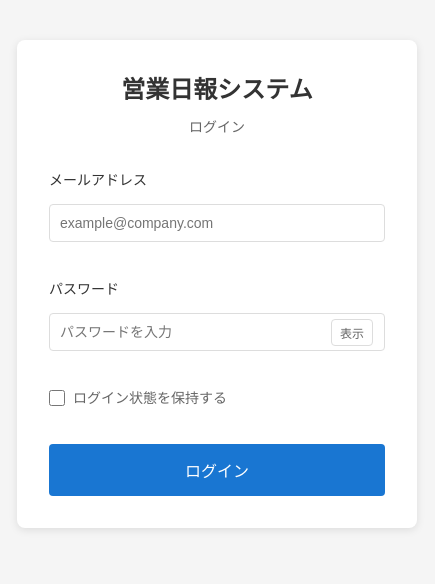
LoginPage › should show validation error for empty password
Step 1. Type "test@example.com" into the field labelled "メールアドレス" → (217, 223), box x1=49 y1=204 x2=385 y2=242
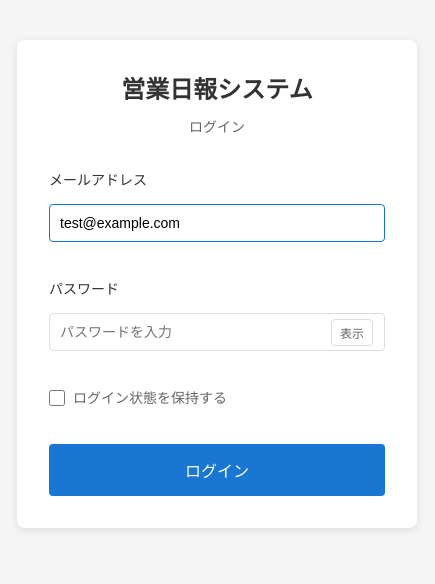
Step 2. Click the button "ログイン" → (217, 470), box x1=49 y1=444 x2=385 y2=496
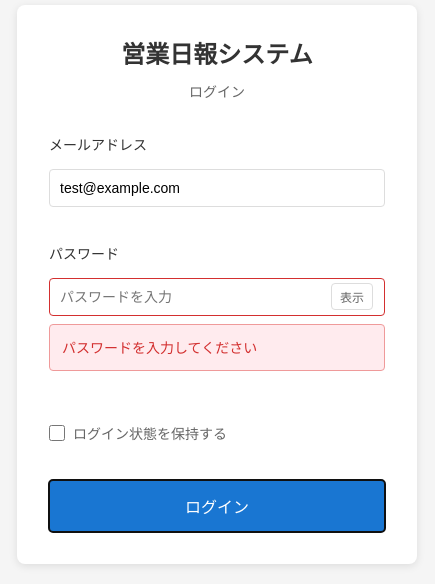
Expected: the text "パスワードを入力してください" is shown, x1=49 y1=324 x2=385 y2=370
